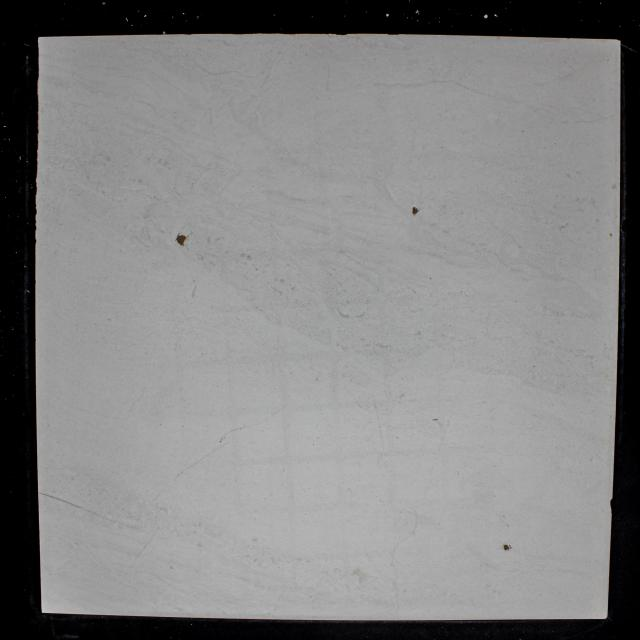edge-chipping: (610, 499, 613, 514)
hole: (174, 234, 188, 246), (411, 207, 420, 216), (503, 543, 511, 552)
line: (220, 405, 286, 437), (178, 443, 228, 480), (38, 492, 82, 508)
